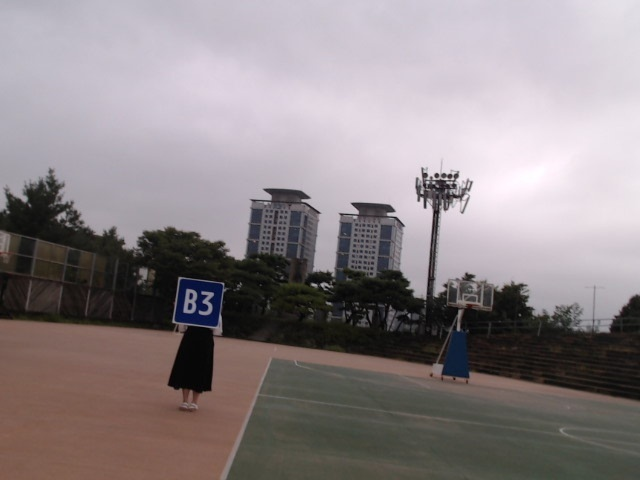delivery_b3: (174, 277, 224, 329)
